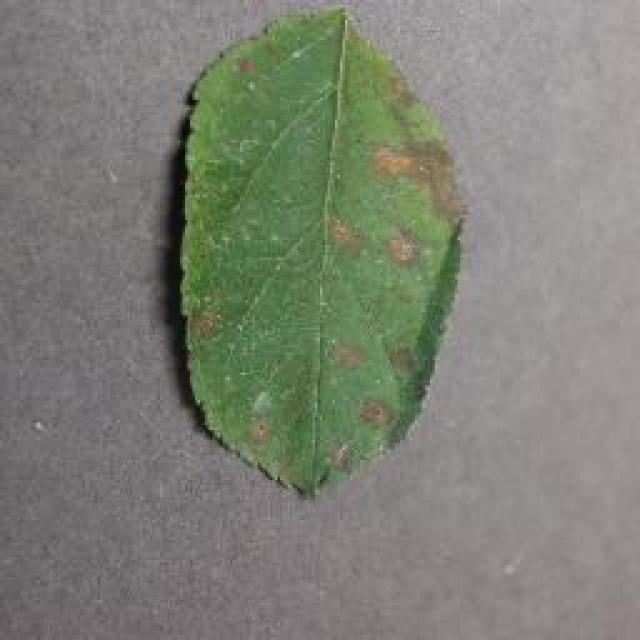apple rust disease: (172, 5, 470, 500)
